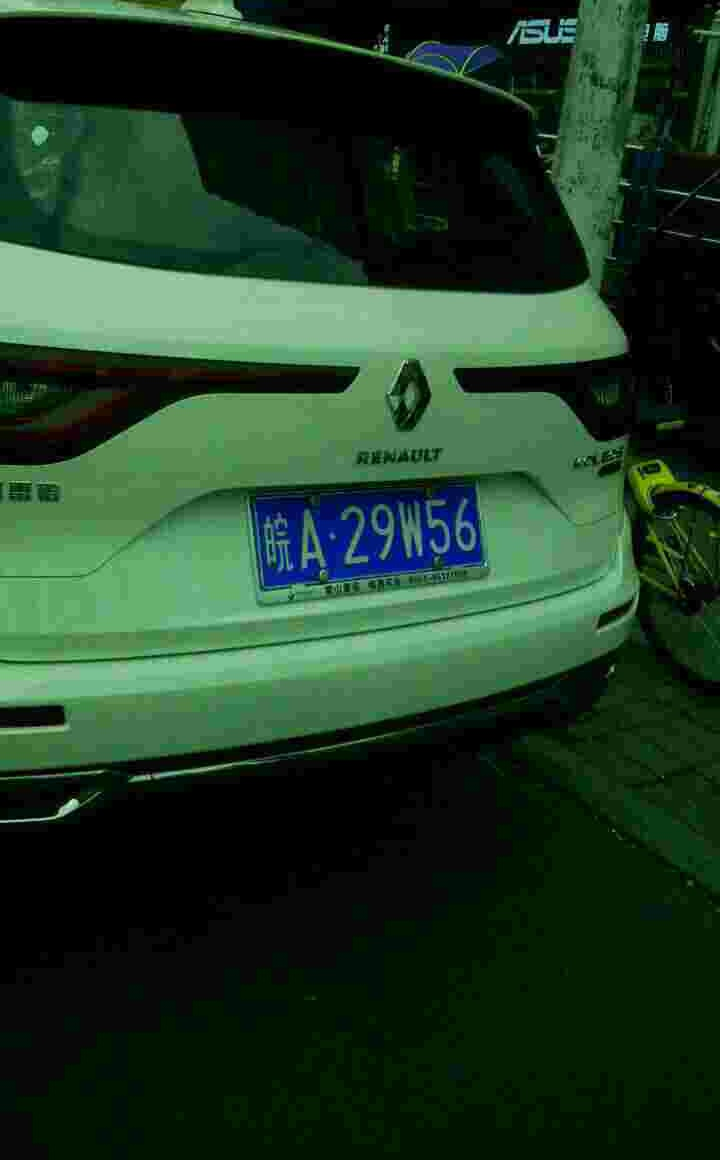license_plate: (248, 484, 497, 598)
